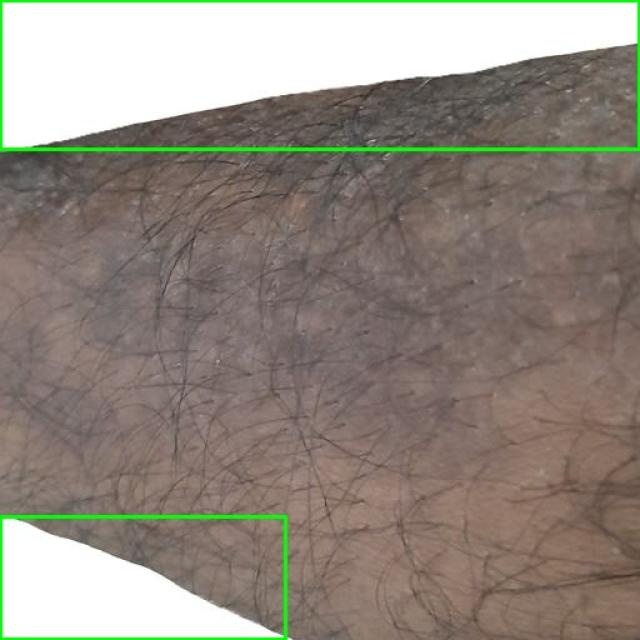Contact Dermatitis: (0, 0, 639, 149), (0, 516, 285, 639)
